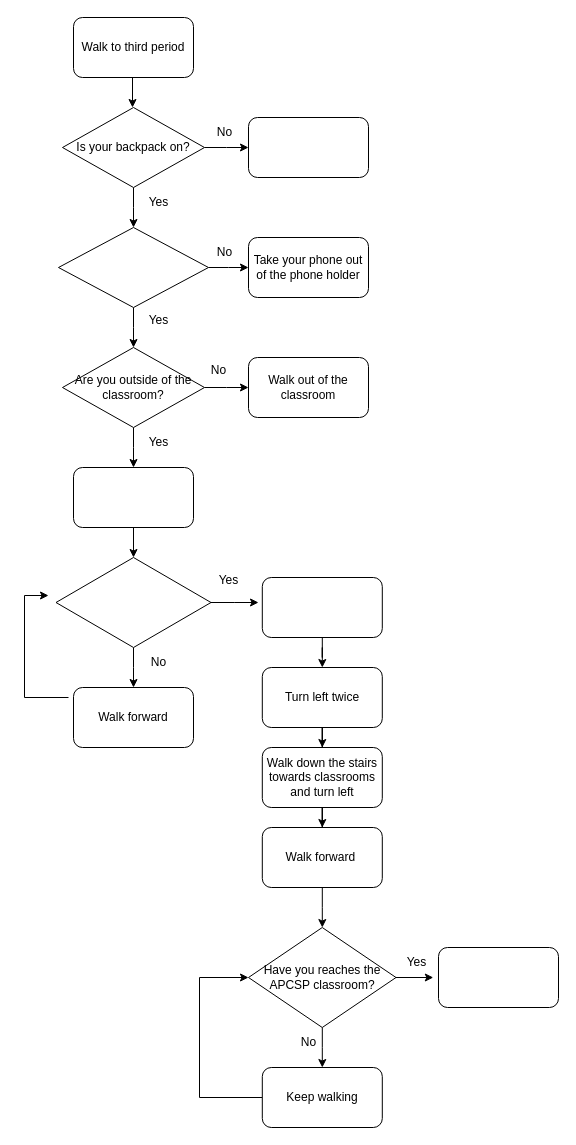
Image size: 576x1145. Some labels were removed from this diagram. The shapes that lost their labels are listed below. From the top down, each one's box as (x1, y1, x2, y2) in pixels, then its label:
(248, 116, 368, 178): Put on your backpack
(58, 226, 208, 308): Do you have your phone?
(72, 466, 194, 528): Turn left
(55, 556, 211, 648): Have you reached the stairs?
(261, 576, 382, 638): Turn right and walk down the stairs
(438, 946, 558, 1008): Turn right and walk in
